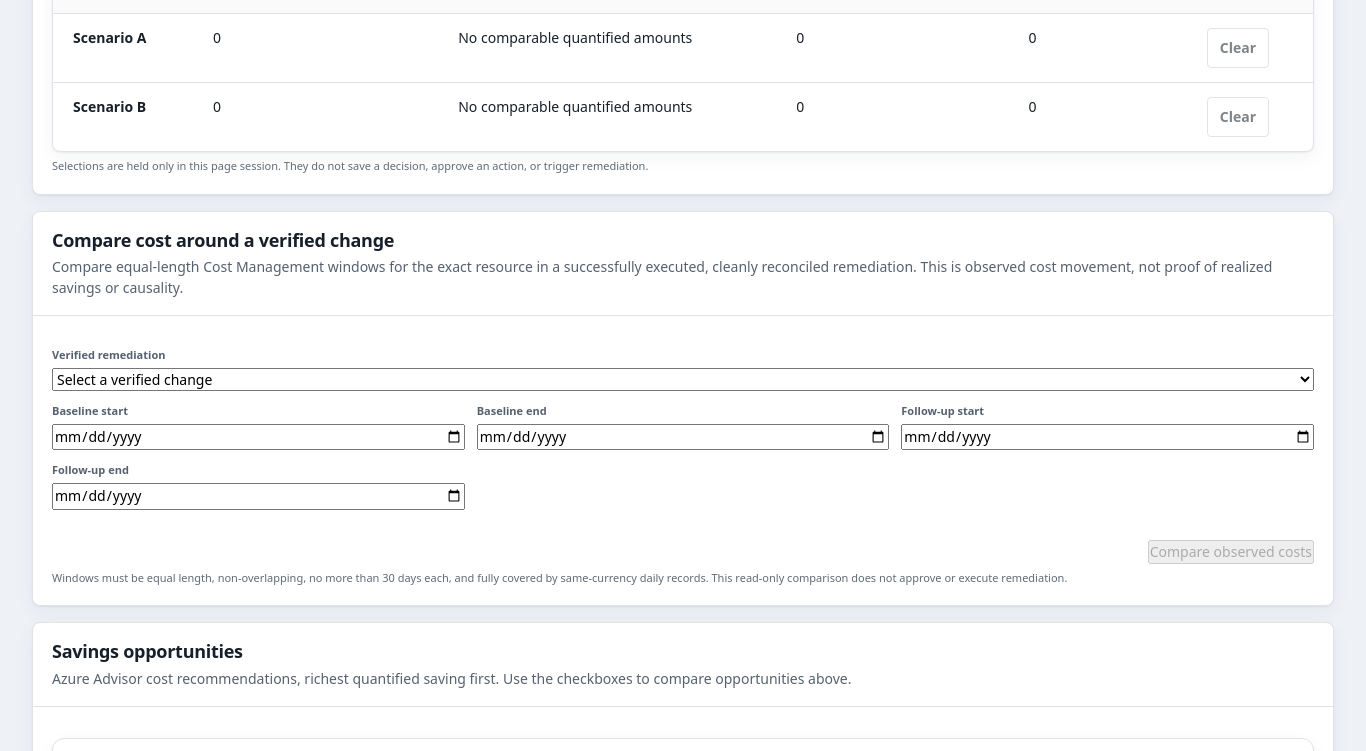
it: FinOps currency normalization › compares only the selected verified change and caller-entered windows
(page scrolled)
Select "2026-06-10 — /subscriptions/sub-a/vm-a (execution-a)" in the dropdown labelled "Verified remediation" at (683, 380), box [52, 368, 1314, 391]
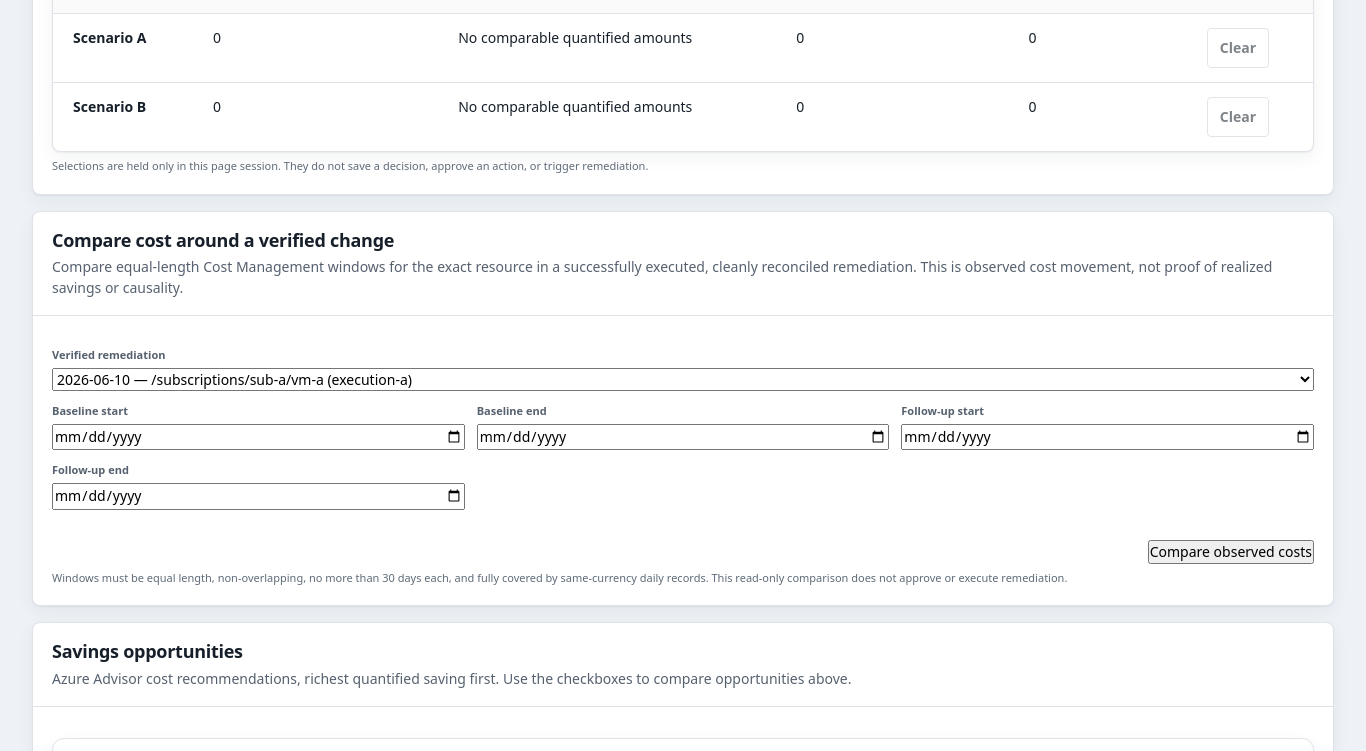
Type "2026-06-01" into the date field labelled "Baseline start" at (258, 437), box [52, 424, 465, 450]
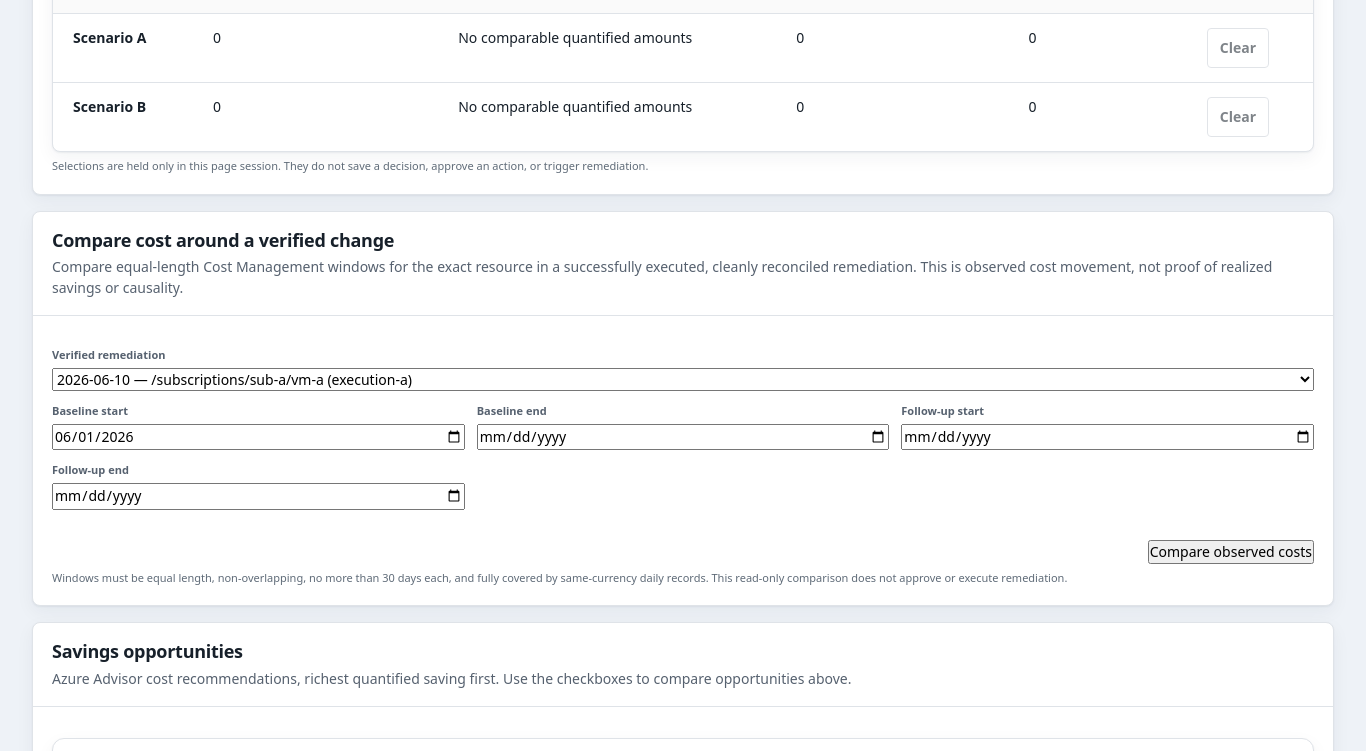
Type "2026-06-07" into the date field labelled "Baseline end" at (683, 437), box [477, 424, 889, 450]
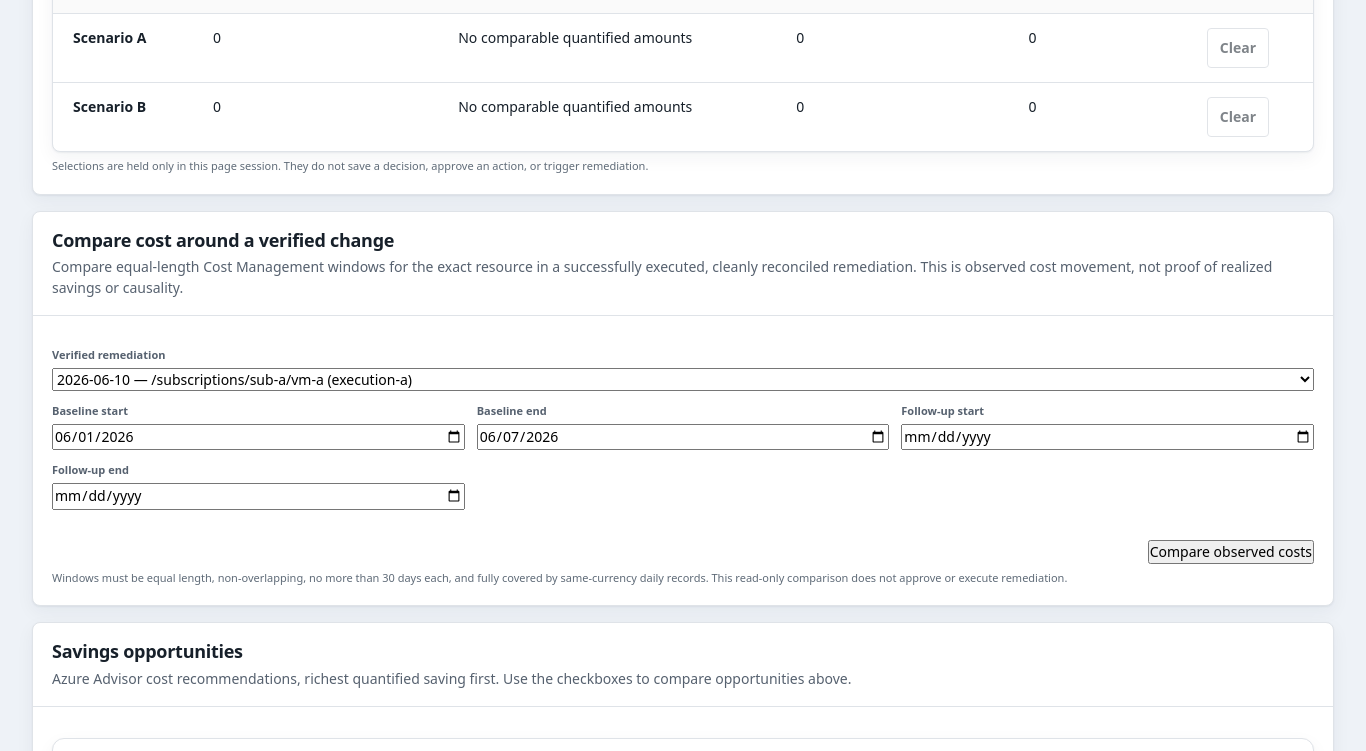
Type "2026-06-14" into the date field labelled "Follow-up start" at (1108, 437), box [901, 424, 1314, 450]
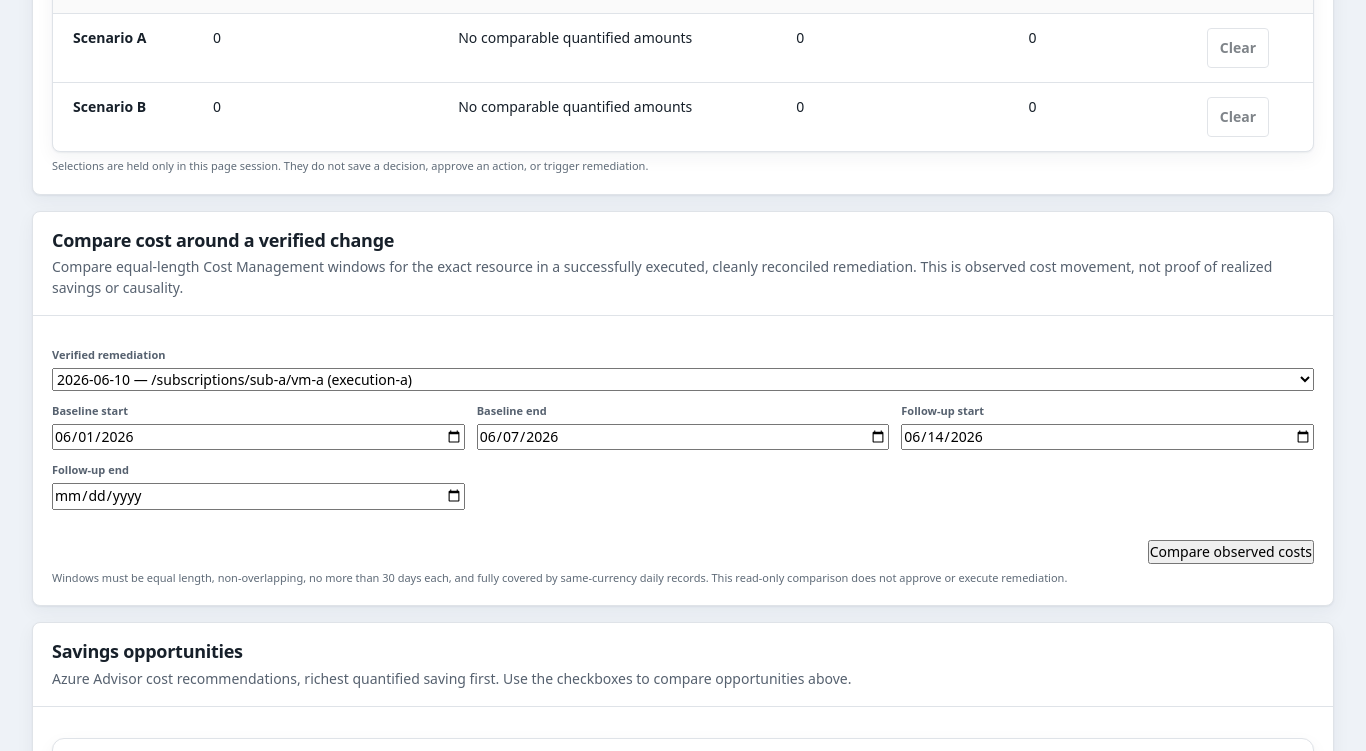
Type "2026-06-20" into the date field labelled "Follow-up end" at (258, 496), box [52, 483, 465, 510]
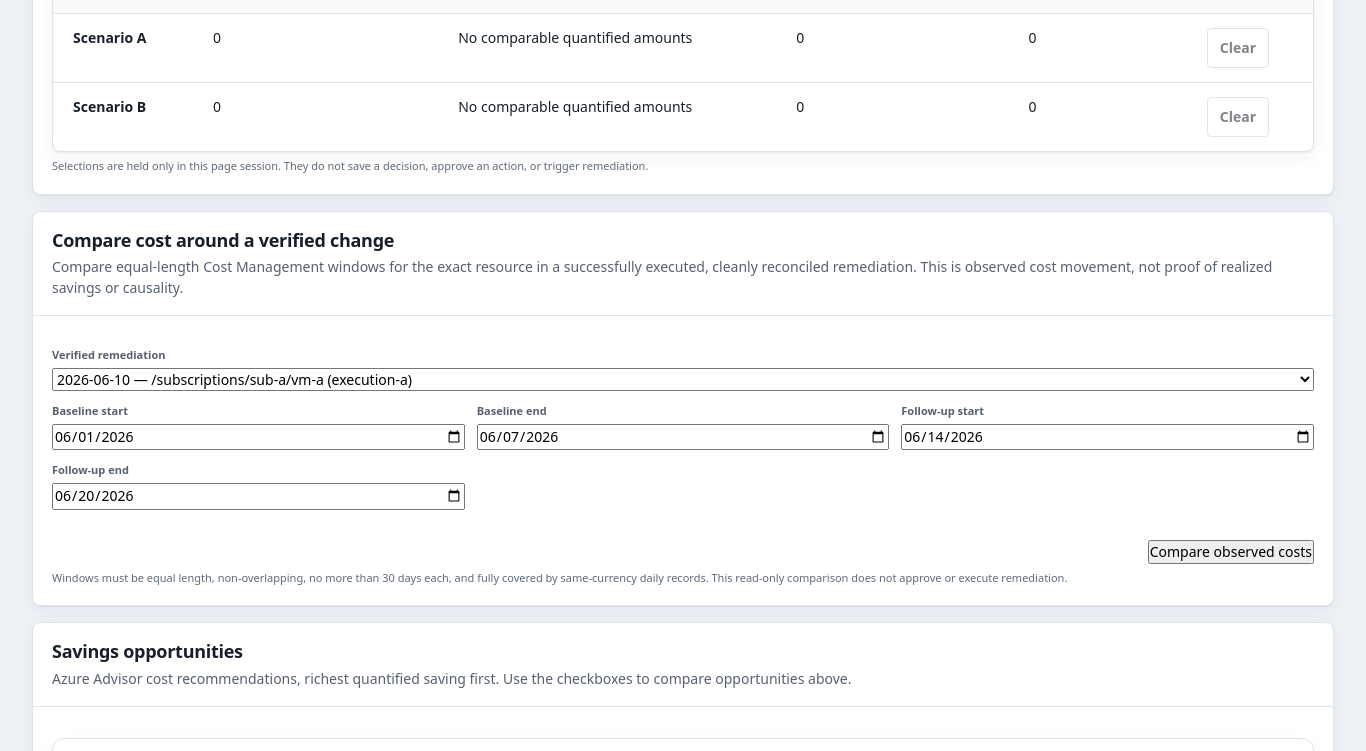
Click the button "Compare observed costs" at (1231, 552), box [1148, 540, 1314, 564]
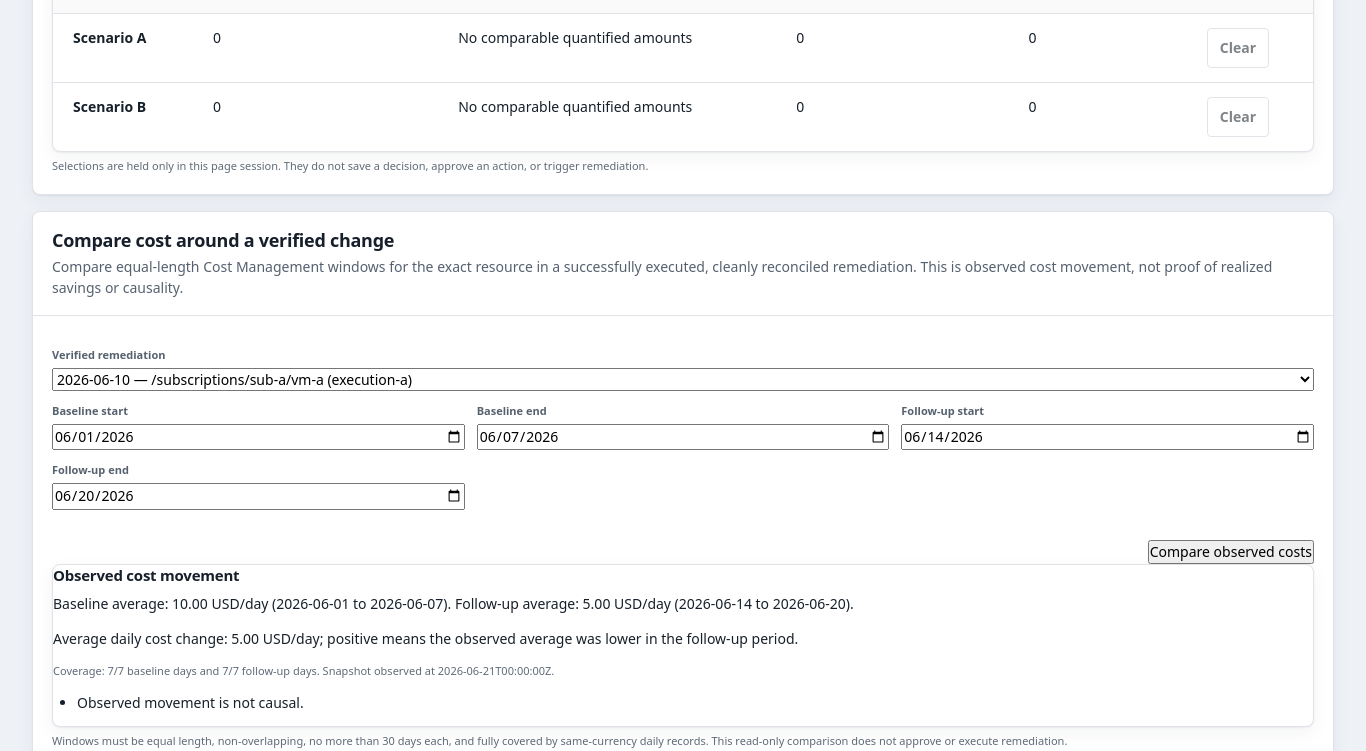
Check: the heading "Observed cost movement" is shown, box [53, 565, 239, 585]
Check: the text "Average daily cost change: 5.00 USD/day" is shown, box [53, 628, 798, 648]
